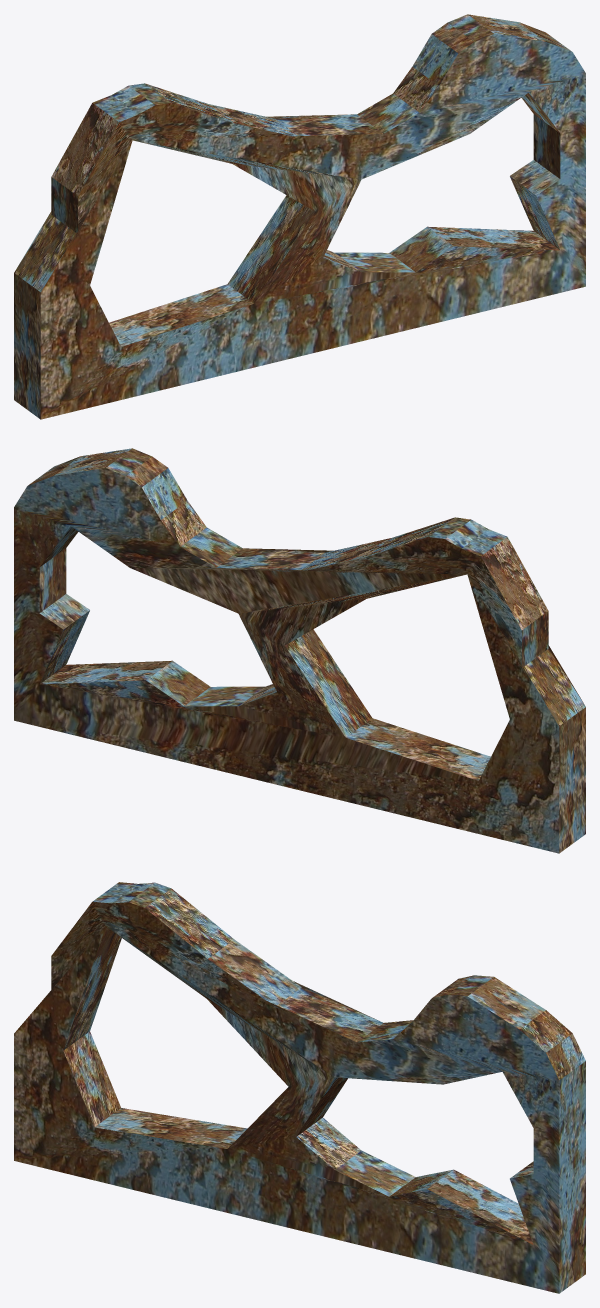
The model's file is muro5.fbx.
3 renders of one model, top to bottom at view 1: azimuth 30°, elevation 25°; view 2: azimuth 150°, elevation 25°; view 3: azimuth 330°, elevation 25°, orthographic.
Visible parts, largest first — view 1: Model; view 2: Model; view 3: Model.
Part boxes in pixels (box(x1,y1,x2,y2)): Model: box(14, 14, 585, 419); Model: box(14, 448, 585, 853); Model: box(14, 882, 585, 1293).
Bounding box in the file's own units: 3.53 × 1.77 × 0.3075.
Materials: 1 (1 with a texture image).
